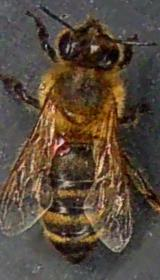varroa_mite: (49, 140, 80, 161)
